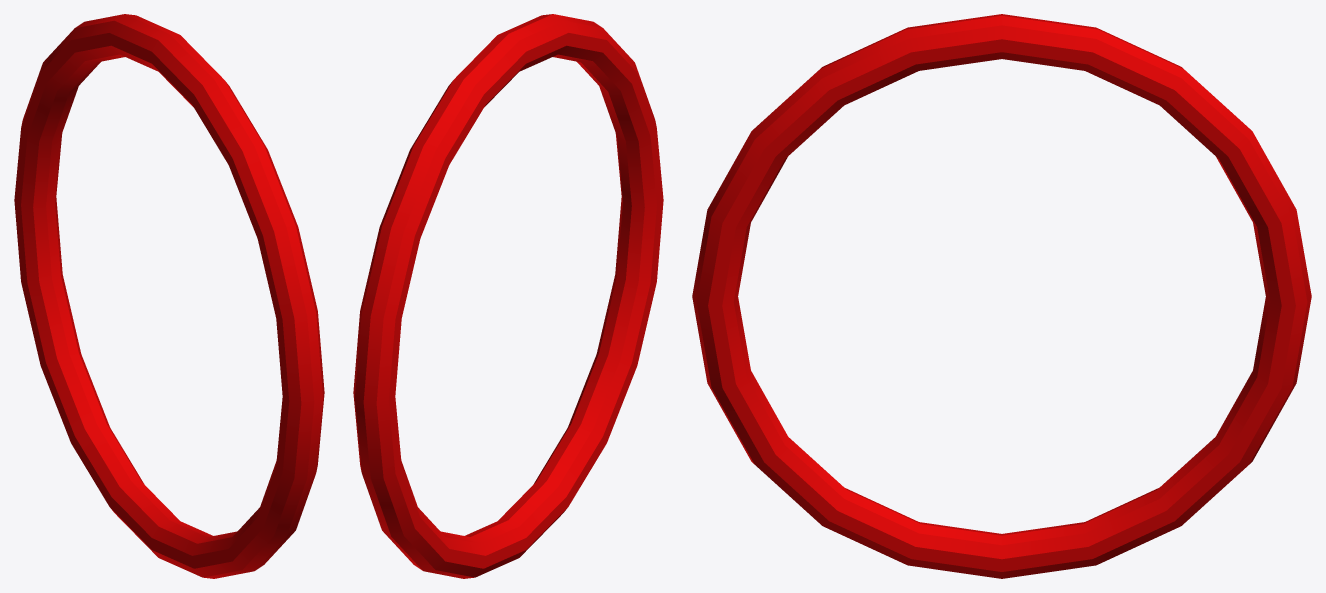
Rendered from Ring_Red.fbx.
The picture shows the model from 3 angles, left to right: view 1: azimuth 30°, elevation 25°; view 2: azimuth 150°, elevation 25°; view 3: azimuth 270°, elevation 25°; orthographic projection. The views are drawn at different scales.
Parts seen in each view (by area): view 1: pTorus3; view 2: pTorus3; view 3: pTorus3.
Part boxes in pixels (bbox=[...]): pTorus3: bbox=[14, 14, 324, 578]; pTorus3: bbox=[353, 14, 663, 578]; pTorus3: bbox=[692, 14, 1311, 578].
Size of the model in its own units: 0.1522 by 2.16 by 2.16.
